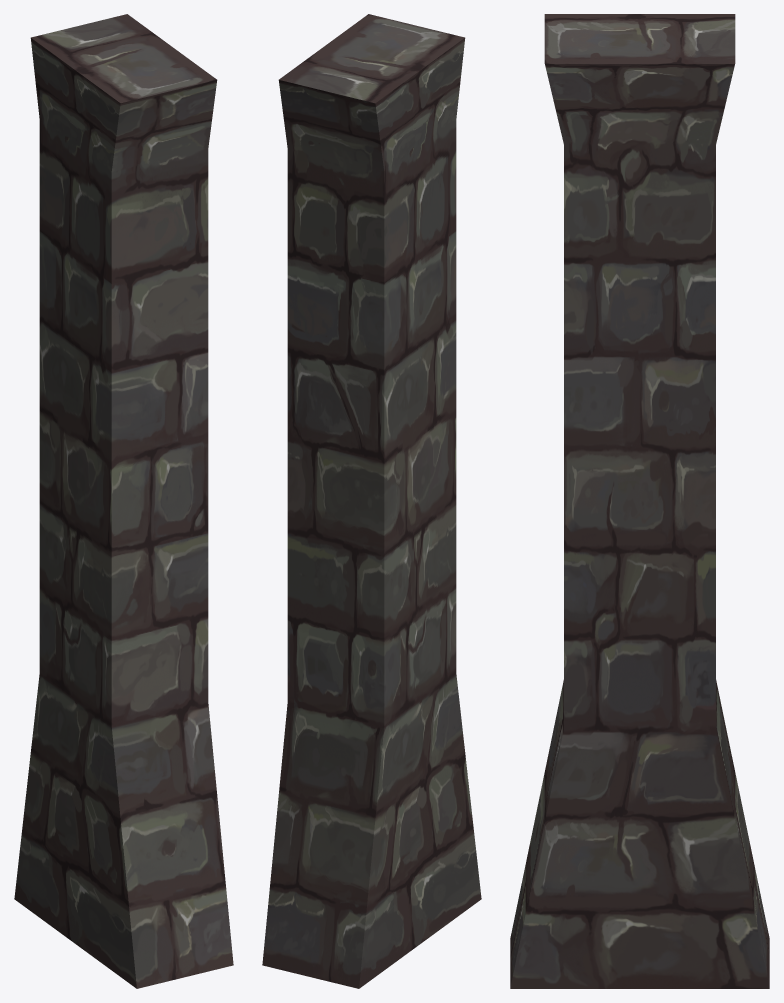
Rendered from dungeon_pillar.fbx.
3 renders of one model, left to right at view 1: azimuth 30°, elevation 25°; view 2: azimuth 150°, elevation 25°; view 3: azimuth 270°, elevation 25°, orthographic. The views are drawn at different scales.
Parts seen in each view (by area): view 1: pillar; view 2: pillar; view 3: pillar.
Boxes of the visible parts, <box> form: pillar: <box>14,14,233,988</box>; pillar: <box>262,14,481,988</box>; pillar: <box>510,14,769,988</box>.
Bounding box in the file's own units: 3.26 × 28.16 × 7.16.
